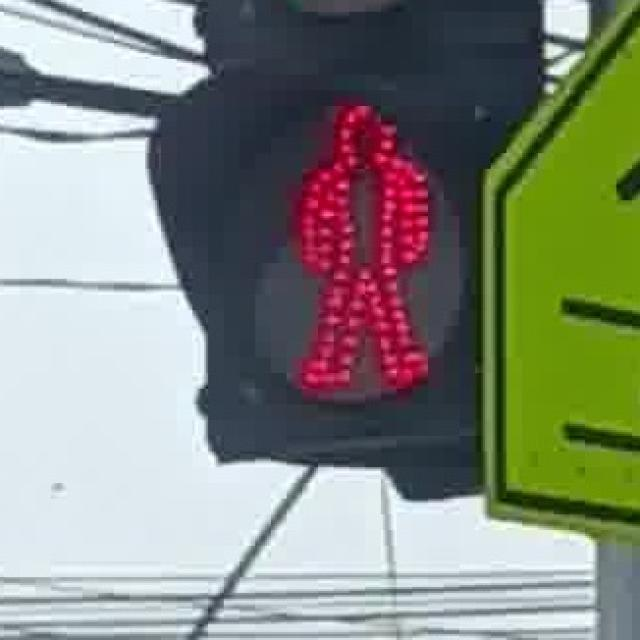red_light: (250, 82, 453, 404)
